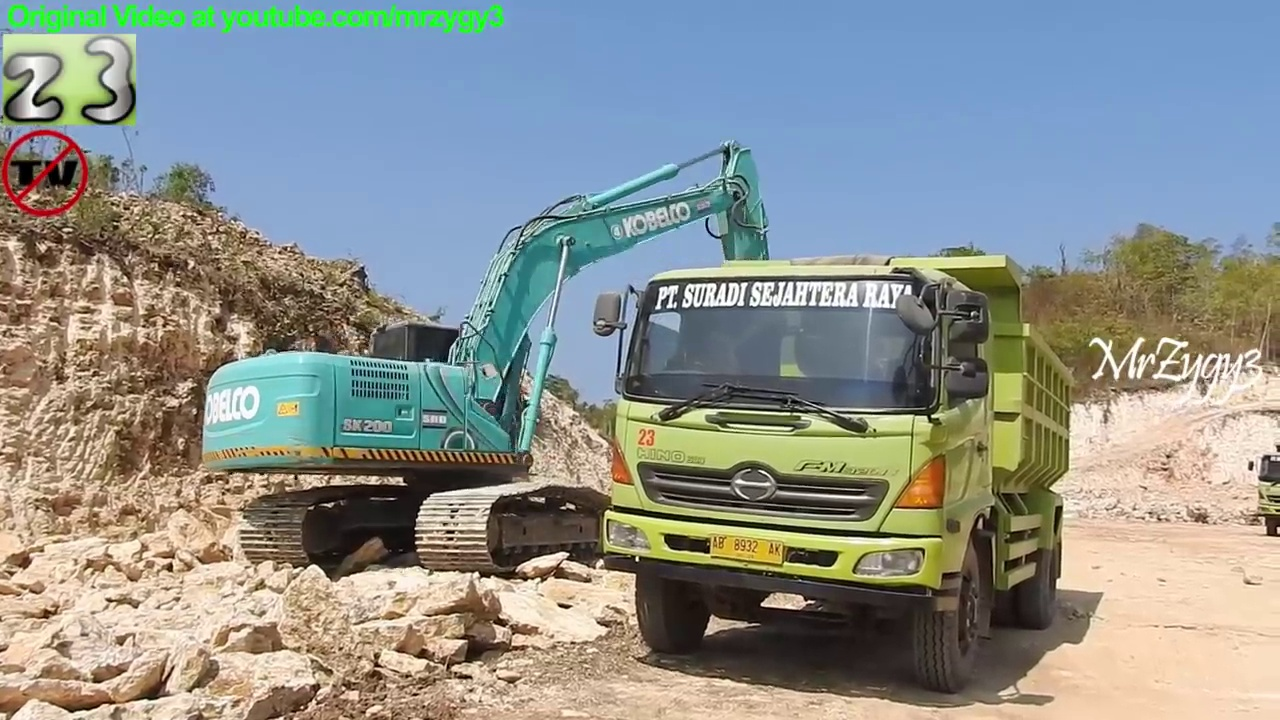excavator: (196, 137, 838, 588)
truck: (591, 241, 1086, 696), (1244, 440, 1280, 542)
